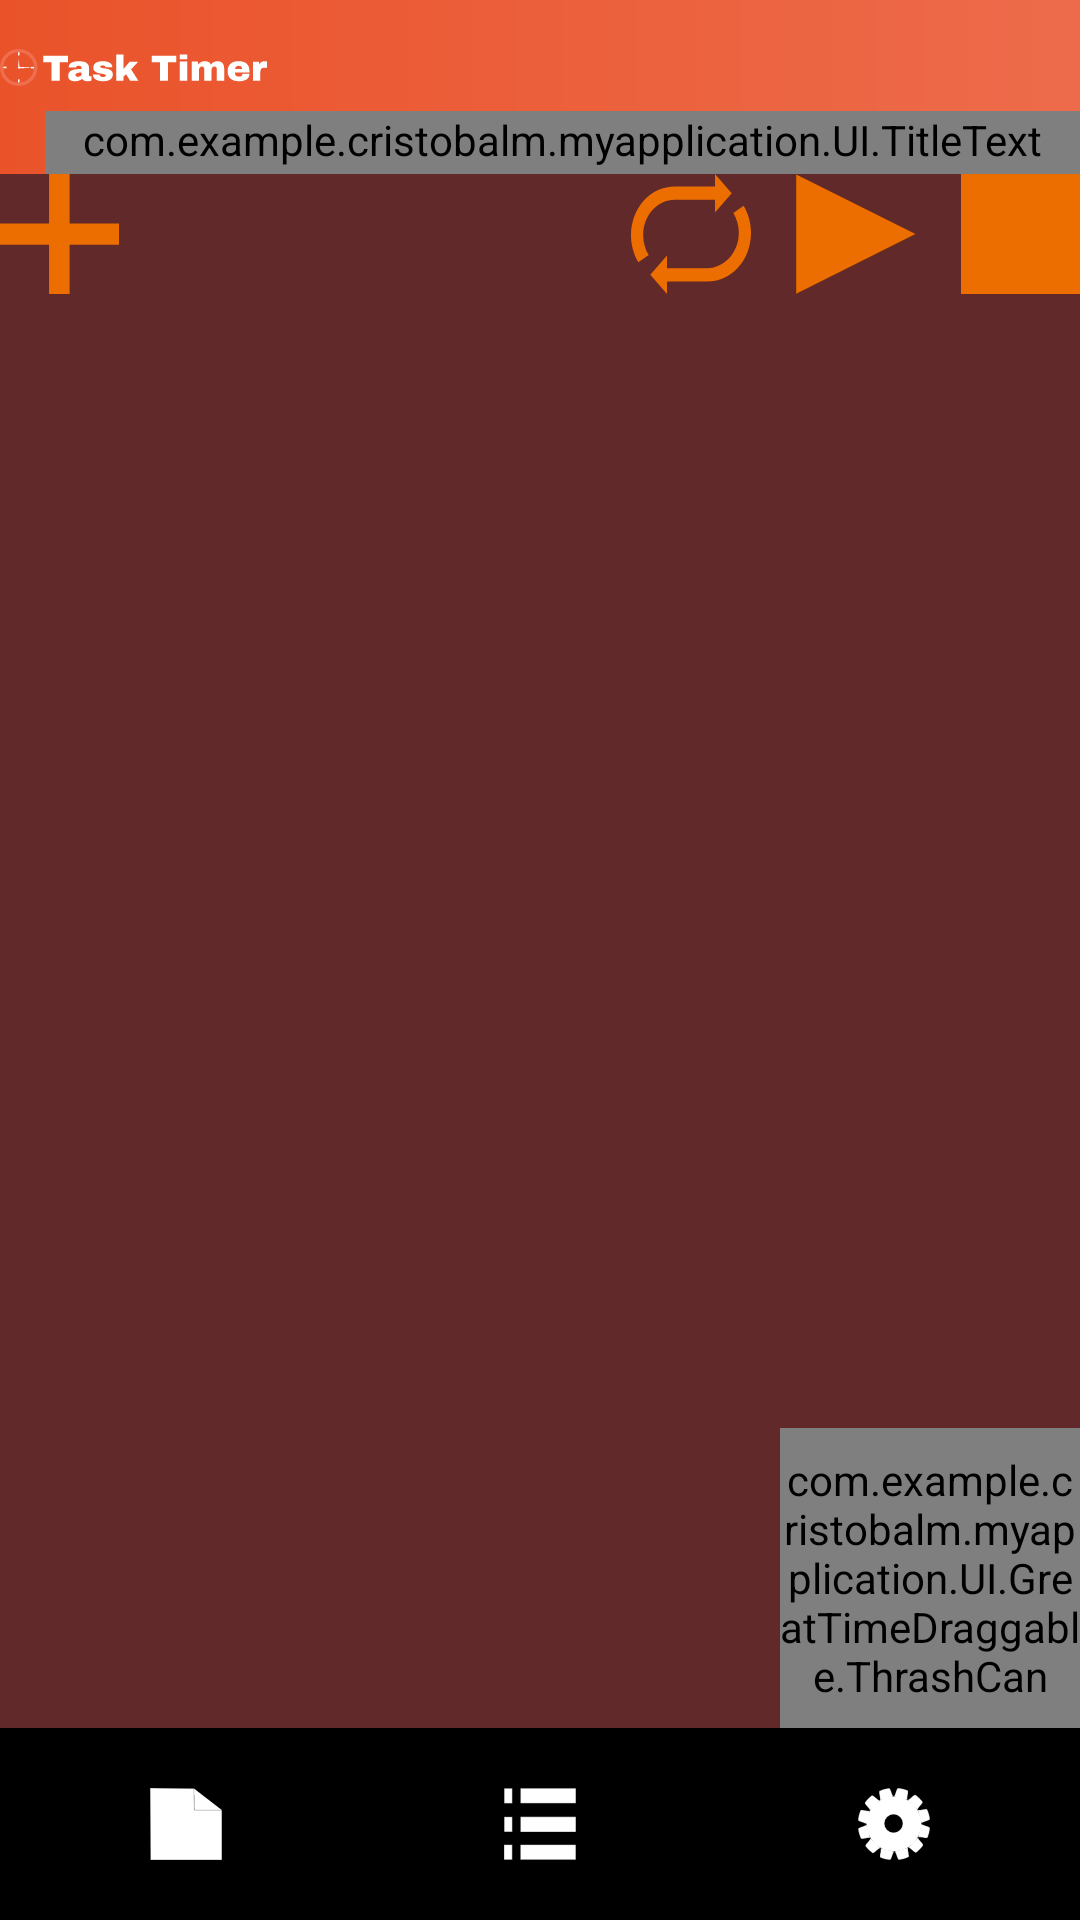

Icon click points for this 1080px x 1920px phone screenshot, format (x,y):
add: (59,234)
config: (894,1824)
lists: (540,1824)
play: (855,234)
sunuevo: (186,1824)
